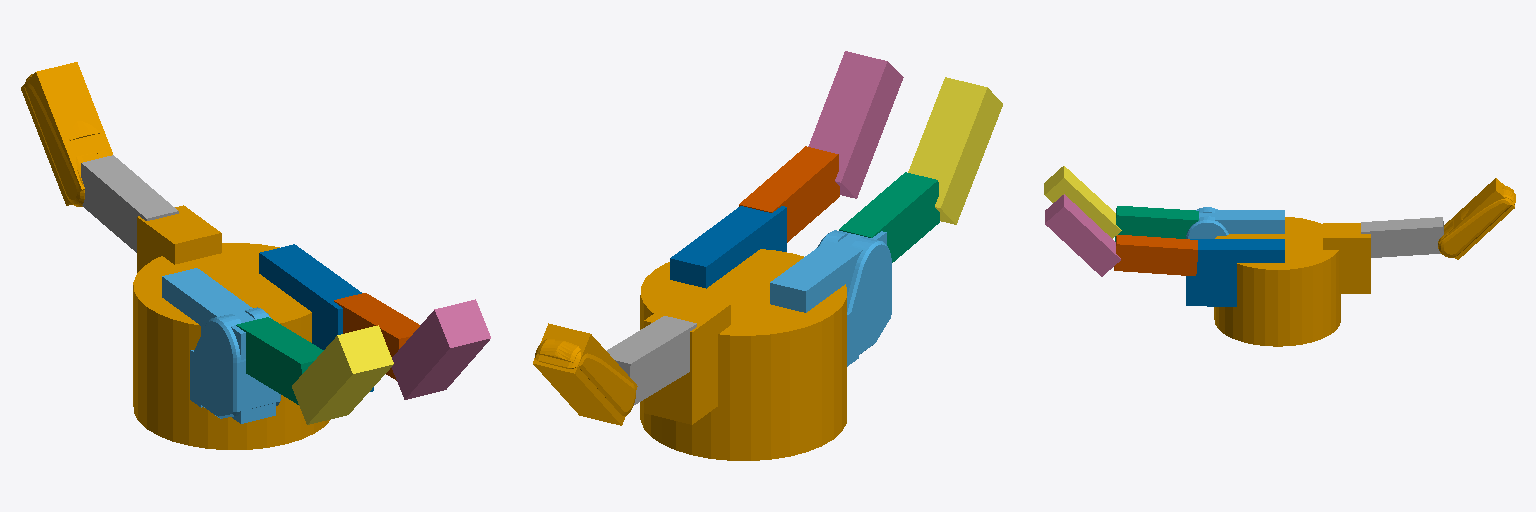
URDF robot description (barret_hand_collisions_primitified):
<?xml version="1.0"?>
<robot name="barret_hand_collisions_primitified">
  <joint name="bh282_j00" type="revolute">
    <origin xyz="-0.025 0. 0.0754" rpy="1.5707964 1.5707964 0. "/>
    <parent link="World"/>
    <child link="bh282_finger0_0"/>
    <axis xyz="1. 0. 0."/>
    <limit lower="0." upper="3.1415927" effort="340282346638528859811704183484516925440." velocity="2."/>
  </joint>
  <joint name="bh282_j01" type="revolute">
    <origin xyz="0.028 0.001 0.05 " rpy="-3.1415925 0. -1.5707966"/>
    <parent link="bh282_finger0_0"/>
    <child link="bh282_finger0_1"/>
    <axis xyz="1. 0. 0."/>
    <limit lower="0." upper="2.4434607" effort="340282346638528859811704183484516925440." velocity="2."/>
  </joint>
  <joint name="bh282_j02" type="revolute">
    <origin xyz="0.0002 0.003 -0.0699357" rpy="0.6981317 0. 0. "/>
    <parent link="bh282_finger0_1"/>
    <child link="bh282_finger0_2"/>
    <axis xyz="1. 0. 0."/>
    <limit lower="0." upper="0.837758" effort="340282346638528859811704183484516925440." velocity="2."/>
  </joint>
  <joint name="bh282_j10" type="revolute">
    <origin xyz="0.025 0. 0.0754" rpy="-1.5708 -1.5707963 0. "/>
    <parent link="World"/>
    <child link="bh282_finger1_0"/>
    <axis xyz="1. 0. 0."/>
    <limit lower="0." upper="3.1415927" effort="340282346638528859811704183484516925440." velocity="2."/>
  </joint>
  <joint name="bh282_j11" type="revolute">
    <origin xyz="-0.0277073 0.001 -0.0501628" rpy="0.0058448 0. -1.570796 "/>
    <parent link="bh282_finger1_0"/>
    <child link="bh282_finger1_1"/>
    <axis xyz="1. 0. 0."/>
    <limit lower="0." upper="2.4434607" effort="340282346638528859811704183484516925440." velocity="2."/>
  </joint>
  <joint name="bh282_j12" type="revolute">
    <origin xyz="0.0002 0.003 -0.0699357" rpy="0.70008 0. 0. "/>
    <parent link="bh282_finger1_1"/>
    <child link="bh282_finger1_2"/>
    <axis xyz="1. 0. 0."/>
    <limit lower="0." upper="0.837758" effort="340282346638528859811704183484516925440." velocity="2."/>
  </joint>
  <joint name="bh282_j21" type="revolute">
    <origin xyz="-0.0018 0.053 0.048 " rpy="1.5707963 -0.0000003 -0.0000003"/>
    <parent link="World"/>
    <child link="bh282_finger2_1"/>
    <axis xyz="1. 0. 0."/>
    <limit lower="0." upper="2.4434607" effort="340282346638528859811704183484516925440." velocity="2."/>
  </joint>
  <joint name="bh282_j22" type="revolute">
    <origin xyz="0.0002 0.003 -0.0699357" rpy="0.6981317 0. 0. "/>
    <parent link="bh282_finger2_1"/>
    <child link="bh282_finger2_2"/>
    <axis xyz="1. 0. 0."/>
    <limit lower="0." upper="0.837758" effort="340282346638528859811704183484516925440." velocity="2."/>
  </joint>
  <joint name="bh282_perception_palm_mount" type="fixed">
    <origin xyz="0. 0. 0." rpy="0. 0. 0."/>
    <parent link="World"/>
    <child link="bh282_perception_palm"/>
  </joint>
  <link name="World">
    <visual>
      <origin xyz="-0.112 -0.056 -0.023" rpy="0. 0. 0."/>
      <geometry>
        <mesh filename="meshes/bh282_hand_base_visuals.obj" scale="1. 1. 1."/>
      </geometry>
    </visual>
    <visual>
      <origin xyz="0. 0. 0.0199037" rpy="0. 0. 0."/>
      <geometry>
        <cylinder radius="0.045" length="0.06"/>
      </geometry>
    </visual>
    <visual>
      <origin xyz="0. 0.0489742 0.0377972" rpy="0. 0. 0."/>
      <geometry>
        <box size="0.024156 0.0335379 0.044282 "/>
      </geometry>
    </visual>
    <collision>
      <origin xyz="0. 0. 0.0199037" rpy="0. 0. 0."/>
      <geometry>
        <cylinder radius="0.045" length="0.06"/>
      </geometry>
    </collision>
    <collision>
      <origin xyz="0. 0.0489742 0.0377972" rpy="0. 0. 0."/>
      <geometry>
        <box size="0.024156 0.0335379 0.044282 "/>
      </geometry>
    </collision>
  </link>
  <link name="bh282_finger0_0">
    <inertial>
      <origin xyz="0. 0. 0." rpy="0. 0. 0."/>
      <mass value="0.14109"/>
      <inertia ixx="0." ixy="0." ixz="0." iyy="0." iyz="0." izz="0."/>
    </inertial>
    <visual>
      <origin xyz="0.0373011 0. 0.0298485" rpy="0. -1.5707963 0. "/>
      <geometry>
        <box size="0.0701436 0.018148 0.044282 "/>
      </geometry>
    </visual>
    <visual>
      <origin xyz="0.029 0. 0. " rpy="0. -1.5707963 0. "/>
      <geometry>
        <mesh filename="meshes/bh282_finger0_0_visuals.obj" scale="1. 1. 1."/>
      </geometry>
    </visual>
    <visual>
      <origin xyz="0.0373011 0. 0.0298485" rpy="0. -1.5707963 0. "/>
      <geometry>
        <box size="0.0701436 0.018148 0.044282 "/>
      </geometry>
    </visual>
    <collision>
      <origin xyz="0.0373011 0. 0.0298485" rpy="0. -1.5707963 0. "/>
      <geometry>
        <box size="0.0701436 0.018148 0.044282 "/>
      </geometry>
    </collision>
  </link>
  <link name="bh282_finger0_1">
    <inertial>
      <origin xyz="0. 0. 0." rpy="0. 0. 0."/>
      <mass value="0.062139"/>
      <inertia ixx="0." ixy="0." ixz="0." iyy="0." iyz="0." izz="0."/>
    </inertial>
    <visual>
      <origin xyz="-0.0008029 0.0048701 -0.0359367" rpy="1.5708007 1.501261 1.5708007"/>
      <geometry>
        <box size="0.0581951 0.0208819 0.0165144"/>
      </geometry>
    </visual>
    <visual>
      <origin xyz="0. 0. 0." rpy="0. 1.5707963 0. "/>
      <geometry>
        <mesh filename="meshes/bh282_finger0_1_visuals.obj" scale="1. 1. 1."/>
      </geometry>
    </visual>
    <visual>
      <origin xyz="-0.0008029 0.0048701 -0.0359367" rpy="1.5708007 1.501261 1.5708007"/>
      <geometry>
        <box size="0.0581951 0.0208819 0.0165144"/>
      </geometry>
    </visual>
    <collision>
      <origin xyz="-0.0008029 0.0048701 -0.0359367" rpy="1.5708007 1.501261 1.5708007"/>
      <geometry>
        <box size="0.0581951 0.0208819 0.0165144"/>
      </geometry>
    </collision>
  </link>
  <link name="bh282_finger0_2">
    <inertial>
      <origin xyz="0. 0. 0." rpy="0. 0. 0."/>
      <mass value="0.04166"/>
      <inertia ixx="0." ixy="0." ixz="0." iyy="0." iyz="0." izz="0."/>
    </inertial>
    <visual>
      <origin xyz="-0.000334 0.0011553 -0.0247406" rpy="1.5707991 1.4751846 1.5707991"/>
      <geometry>
        <box size="0.0581951 0.0193735 0.0212805"/>
      </geometry>
    </visual>
    <visual>
      <origin xyz="0. 0. 0." rpy="0. 1.5707963 0. "/>
      <geometry>
        <mesh filename="meshes/bh282_finger0_2_visuals.obj" scale="1. 1. 1."/>
      </geometry>
    </visual>
    <visual>
      <origin xyz="-0.000334 0.0011553 -0.0247406" rpy="1.5707991 1.4751846 1.5707991"/>
      <geometry>
        <box size="0.0581951 0.0193735 0.0212805"/>
      </geometry>
    </visual>
    <collision>
      <origin xyz="-0.000334 0.0011553 -0.0247406" rpy="1.5707991 1.4751846 1.5707991"/>
      <geometry>
        <box size="0.0581951 0.0193735 0.0212805"/>
      </geometry>
    </collision>
  </link>
  <link name="bh282_finger1_0">
    <inertial>
      <origin xyz="0. 0. 0." rpy="0. 0. 0."/>
      <mass value="0.14109"/>
      <inertia ixx="0." ixy="0." ixz="0." iyy="0." iyz="0." izz="0."/>
    </inertial>
    <visual>
      <origin xyz="-0.037126 0. -0.030066" rpy="0. 1.5649515 0. "/>
      <geometry>
        <box size="0.0701436 0.018148 0.044282 "/>
      </geometry>
    </visual>
    <visual>
      <origin xyz="-0.0289995 0. -0.0001695" rpy="0. 1.5649515 0. "/>
      <geometry>
        <mesh filename="meshes/bh282_finger1_0_visuals.obj" scale="1. 1. 1."/>
      </geometry>
    </visual>
    <visual>
      <origin xyz="-0.037126 0. -0.030066" rpy="0. 1.5649515 0. "/>
      <geometry>
        <box size="0.0701436 0.018148 0.044282 "/>
      </geometry>
    </visual>
    <collision>
      <origin xyz="-0.037126 0. -0.030066" rpy="0. 1.5649515 0. "/>
      <geometry>
        <box size="0.0701436 0.018148 0.044282 "/>
      </geometry>
    </collision>
  </link>
  <link name="bh282_finger1_1">
    <inertial>
      <origin xyz="0. 0. 0." rpy="0. 0. 0."/>
      <mass value="0.062139"/>
      <inertia ixx="0." ixy="0." ixz="0." iyy="0." iyz="0." izz="0."/>
    </inertial>
    <visual>
      <origin xyz="-0.0008029 0.0048701 -0.0359367" rpy="1.5708007 1.501261 1.5708007"/>
      <geometry>
        <box size="0.0581951 0.0208819 0.0165144"/>
      </geometry>
    </visual>
    <visual>
      <origin xyz="0. 0. 0." rpy="-0. 1.5707963 -0. "/>
      <geometry>
        <mesh filename="meshes/bh282_finger1_1_visuals.obj" scale="1. 1. 1."/>
      </geometry>
    </visual>
    <visual>
      <origin xyz="-0.0008029 0.0048701 -0.0359367" rpy="1.5708007 1.501261 1.5708007"/>
      <geometry>
        <box size="0.0581951 0.0208819 0.0165144"/>
      </geometry>
    </visual>
    <collision>
      <origin xyz="-0.0008029 0.0048701 -0.0359367" rpy="1.5708007 1.501261 1.5708007"/>
      <geometry>
        <box size="0.0581951 0.0208819 0.0165144"/>
      </geometry>
    </collision>
  </link>
  <link name="bh282_finger1_2">
    <inertial>
      <origin xyz="0. 0. 0." rpy="0. 0. 0."/>
      <mass value="0.04166"/>
      <inertia ixx="0." ixy="0." ixz="0." iyy="0." iyz="0." izz="0."/>
    </inertial>
    <visual>
      <origin xyz="-0.000334 0.0011553 -0.0247406" rpy="1.5707991 1.4751846 1.5707991"/>
      <geometry>
        <box size="0.0581951 0.0193735 0.0212805"/>
      </geometry>
    </visual>
    <visual>
      <origin xyz="0. 0. 0." rpy="-0. 1.5707963 -0. "/>
      <geometry>
        <mesh filename="meshes/bh282_finger1_2_visuals.obj" scale="1. 1. 1."/>
      </geometry>
    </visual>
    <visual>
      <origin xyz="-0.000334 0.0011553 -0.0247406" rpy="1.5707991 1.4751846 1.5707991"/>
      <geometry>
        <box size="0.0581951 0.0193735 0.0212805"/>
      </geometry>
    </visual>
    <collision>
      <origin xyz="-0.000334 0.0011553 -0.0247406" rpy="1.5707991 1.4751846 1.5707991"/>
      <geometry>
        <box size="0.0581951 0.0193735 0.0212805"/>
      </geometry>
    </collision>
  </link>
  <link name="bh282_finger2_1">
    <inertial>
      <origin xyz="0. 0. 0." rpy="0. 0. 0."/>
      <mass value="0.062139"/>
      <inertia ixx="0." ixy="0." ixz="0." iyy="0." iyz="0." izz="0."/>
    </inertial>
    <visual>
      <origin xyz="-0.0008029 0.0048701 -0.0359367" rpy="1.5708007 1.501261 1.5708007"/>
      <geometry>
        <box size="0.0581951 0.0208819 0.0165144"/>
      </geometry>
    </visual>
    <visual>
      <origin xyz="0. 0. 0." rpy="0. 1.5707963 0. "/>
      <geometry>
        <mesh filename="meshes/bh282_finger2_1_visuals.obj" scale="1. 1. 1."/>
      </geometry>
    </visual>
    <visual>
      <origin xyz="-0.0008029 0.0048701 -0.0359367" rpy="1.5708007 1.501261 1.5708007"/>
      <geometry>
        <box size="0.0581951 0.0208819 0.0165144"/>
      </geometry>
    </visual>
    <collision>
      <origin xyz="-0.0008029 0.0048701 -0.0359367" rpy="1.5708007 1.501261 1.5708007"/>
      <geometry>
        <box size="0.0581951 0.0208819 0.0165144"/>
      </geometry>
    </collision>
  </link>
  <link name="bh282_finger2_2">
    <inertial>
      <origin xyz="0. 0. 0." rpy="0. 0. 0."/>
      <mass value="0.04166"/>
      <inertia ixx="0." ixy="0." ixz="0." iyy="0." iyz="0." izz="0."/>
    </inertial>
    <visual>
      <origin xyz="-0.000334 0.0011553 -0.0247406" rpy="1.5707991 1.4751846 1.5707991"/>
      <geometry>
        <box size="0.0581951 0.0193735 0.0212805"/>
      </geometry>
    </visual>
    <visual>
      <origin xyz="0. 0. 0." rpy="0. 1.5707963 0. "/>
      <geometry>
        <mesh filename="meshes/bh282_finger2_2_visuals.obj" scale="1. 1. 1."/>
      </geometry>
    </visual>
    <visual>
      <origin xyz="-0.000334 0.0011553 -0.0247406" rpy="1.5707991 1.4751846 1.5707991"/>
      <geometry>
        <box size="0.0581951 0.0193735 0.0212805"/>
      </geometry>
    </visual>
    <collision>
      <origin xyz="-0.000334 0.0011553 -0.0247406" rpy="1.5707991 1.4751846 1.5707991"/>
      <geometry>
        <box size="0.0581951 0.0193735 0.0212805"/>
      </geometry>
    </collision>
  </link>
  <link name="bh282_perception_palm">
    <inertial>
      <origin xyz="0. 0. 0." rpy="0. 0. 0."/>
      <mass value="0.60858"/>
      <inertia ixx="0." ixy="0." ixz="0." iyy="0." iyz="0." izz="0."/>
    </inertial>
    <visual>
      <origin xyz="-0.112 -0.056 -0.023" rpy="0. 0. 0."/>
      <geometry>
        <mesh filename="meshes/bh282_perception_palm_visuals.obj" scale="1. 1. 1."/>
      </geometry>
    </visual>
    <visual>
      <origin xyz="-0.112 -0.056 -0.023" rpy="0. 0. 0."/>
      <geometry>
        <mesh filename="meshes/bh282_perception_palm_visuals_1.obj" scale="1. 1. 1."/>
      </geometry>
    </visual>
  </link>
</robot>

--- Render facts (derived) ---
Views: 3 orthographic renders of the robot side by side, from view 1: azimuth 30°, elevation 25°; view 2: azimuth 150°, elevation 25°; view 3: azimuth 270°, elevation 25°.
Robot: barret_hand_collisions_primitified — 10 links, 9 joints (8 revolute, 1 fixed); root link World; default pose: every joint at zero.
Links seen in each view (by area): view 1: World, bh282_finger0_0, bh282_finger2_2, bh282_finger1_2, bh282_finger0_2, bh282_finger1_0, bh282_finger2_1, bh282_finger0_1, bh282_finger1_1; view 2: World, bh282_finger0_0, bh282_finger1_2, bh282_finger0_2, bh282_finger2_2, bh282_finger1_0, bh282_finger1_1, bh282_finger0_1, bh282_finger2_1; view 3: World, bh282_finger1_0, bh282_finger2_2, bh282_finger1_1, bh282_finger1_2, bh282_finger2_1, bh282_finger0_0, bh282_finger0_1, bh282_finger0_2.
Link boxes in pixels (x1,y1,x2,y2): World: [133, 205, 329, 449]; bh282_finger0_0: [162, 268, 280, 423]; bh282_finger2_2: [21, 62, 112, 206]; bh282_finger1_2: [391, 299, 490, 399]; bh282_finger0_2: [292, 325, 393, 424]; bh282_finger1_0: [259, 244, 373, 391]; bh282_finger2_1: [81, 155, 178, 252]; bh282_finger0_1: [236, 317, 323, 404]; bh282_finger1_1: [334, 293, 419, 380]; World: [640, 249, 846, 460]; bh282_finger0_0: [770, 230, 891, 366]; bh282_finger1_2: [808, 51, 903, 198]; bh282_finger0_2: [908, 77, 1002, 224]; bh282_finger2_2: [533, 323, 637, 425]; bh282_finger1_0: [670, 206, 786, 288]; bh282_finger1_1: [739, 146, 839, 242]; bh282_finger0_1: [839, 172, 939, 262]; bh282_finger2_1: [607, 316, 696, 404]; World: [1214, 217, 1370, 346]; bh282_finger1_0: [1186, 239, 1284, 306]; bh282_finger2_2: [1438, 178, 1515, 259]; bh282_finger1_1: [1114, 235, 1197, 275]; bh282_finger1_2: [1045, 194, 1120, 276]; bh282_finger2_1: [1361, 217, 1443, 257]; bh282_finger0_0: [1186, 207, 1284, 238]; bh282_finger0_1: [1115, 206, 1198, 241]; bh282_finger0_2: [1044, 166, 1121, 238].
Size in the robot's own frame: 0.09 by 0.334 by 0.1058 metres.
2 mesh visuals loaded from 11 distinct referenced files (2 OBJ); not drawn: 9 (reference not matched to a file when rendering).